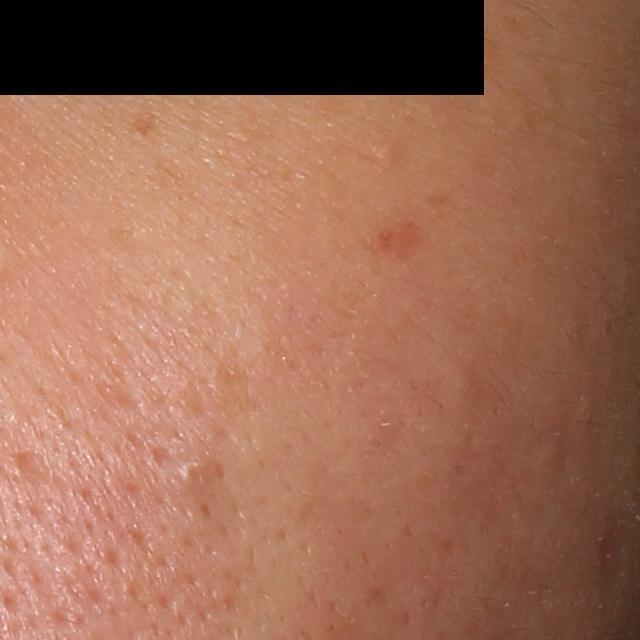atrophic_scar: (8, 445, 56, 496)
comedo: (175, 450, 213, 494)
melasma: (128, 109, 163, 139)
